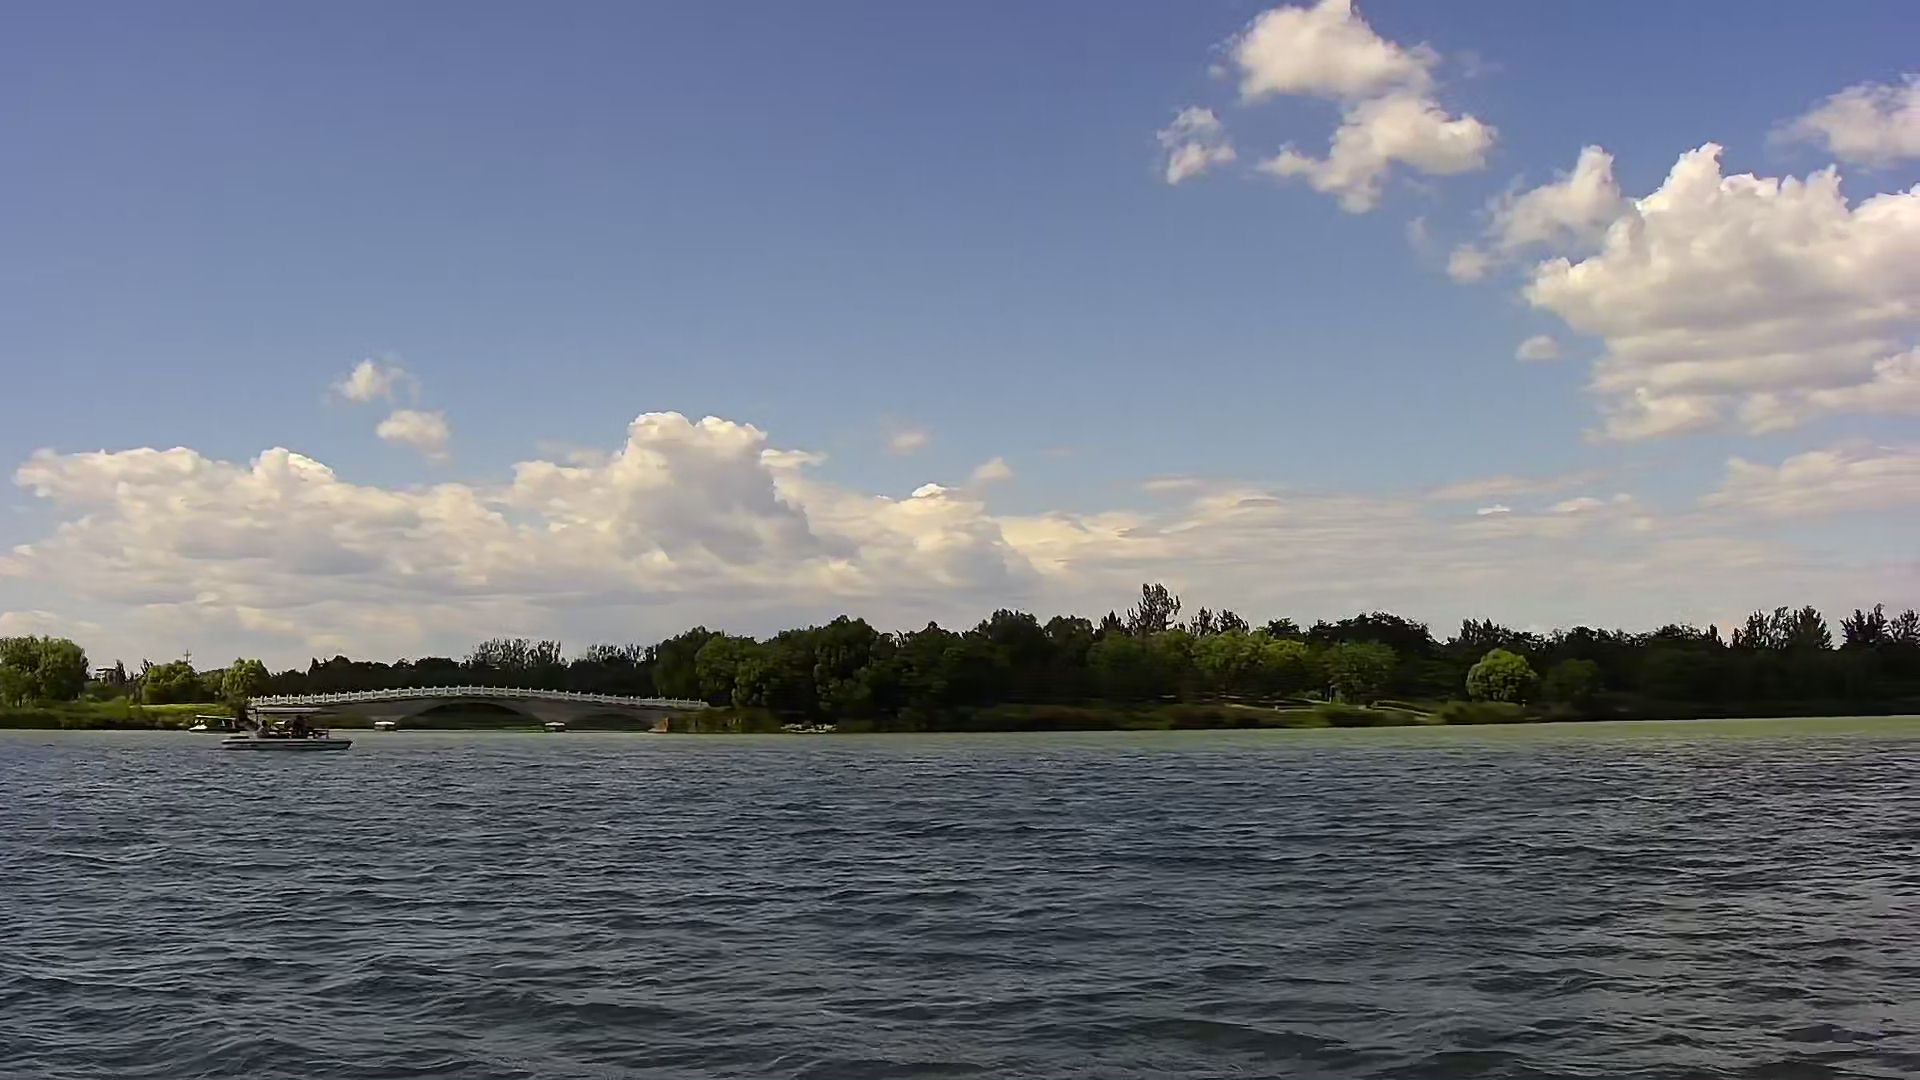boat: (208, 707, 363, 756)
bridge: (251, 680, 715, 745)
